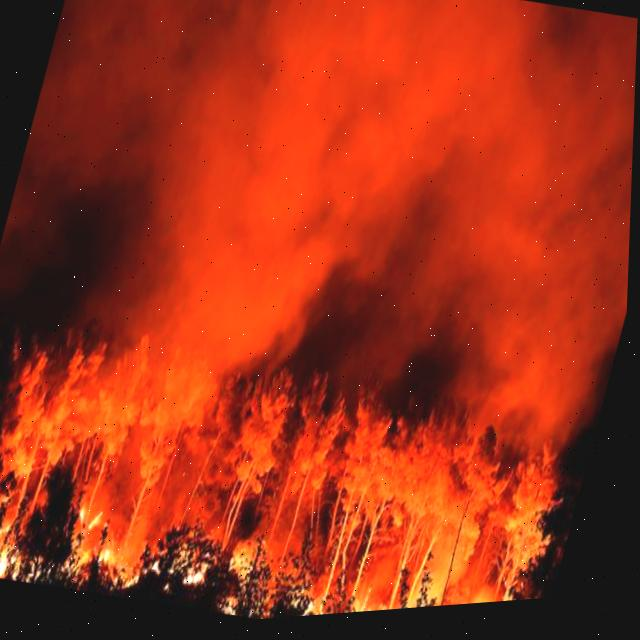fire: (347, 578, 512, 619)
smoke: (0, 0, 638, 461)
